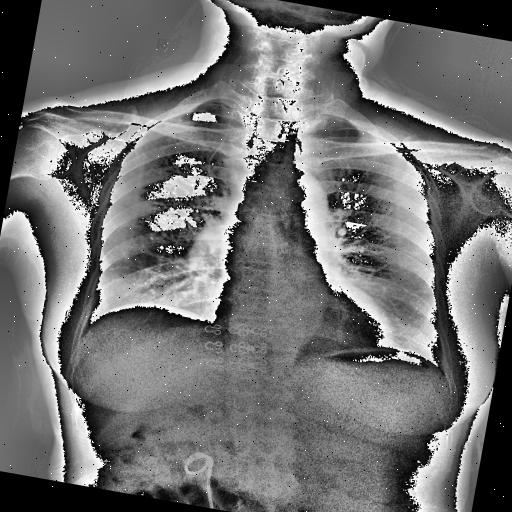0- Aortic enlargement: (249, 162, 334, 241), (261, 161, 336, 246)
11- Pleural thickening: (204, 95, 242, 111)
13- Pulmonary fibrosis: (202, 106, 236, 182), (100, 200, 168, 234), (203, 107, 235, 179), (204, 108, 234, 178)
3- Cardiomegaly: (205, 278, 398, 365), (206, 286, 400, 352)
